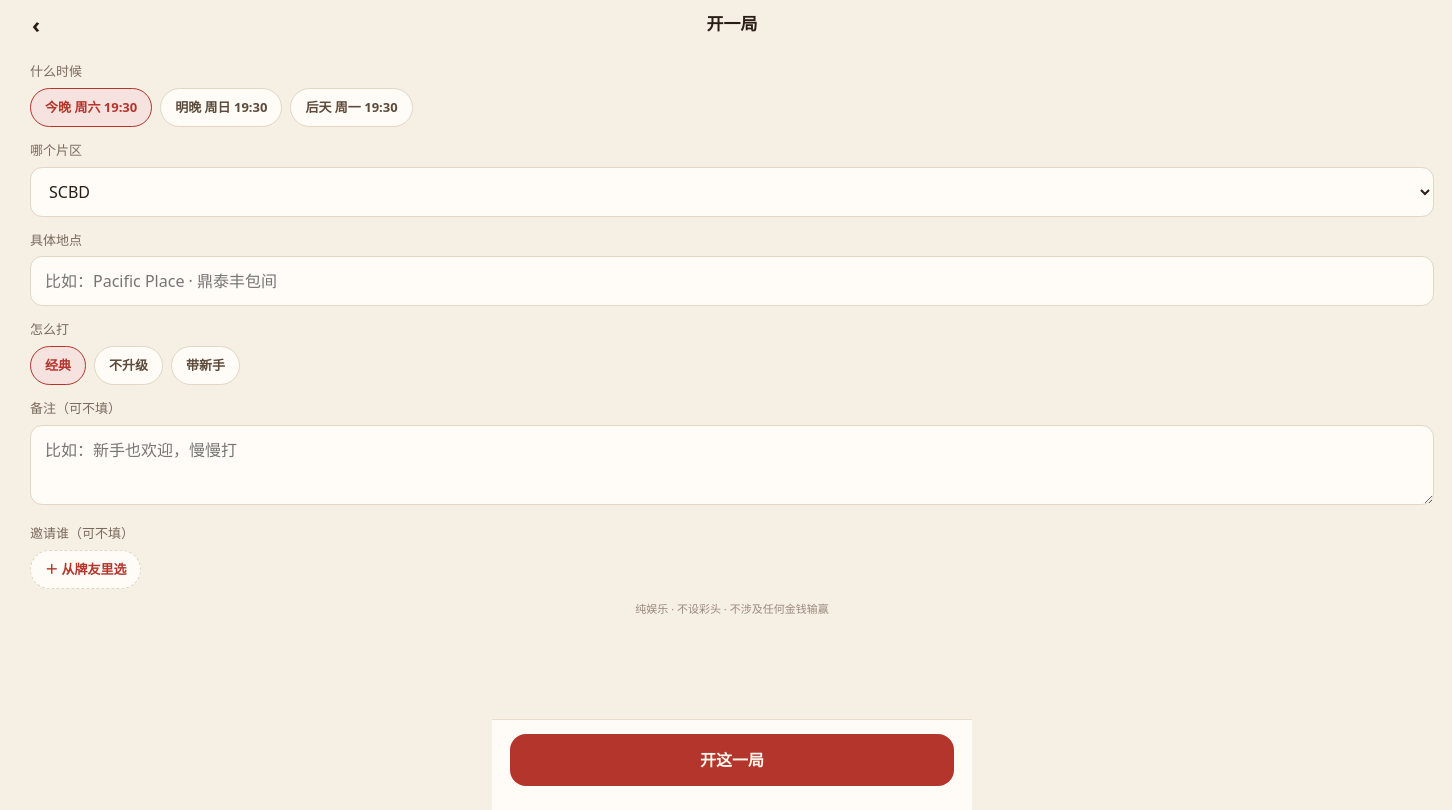
Test: 敏感词（§14、原型 X1） › 备注命中时，提示在备注下面，而且不清空已经写好的内容
This screenshot has width=1452, height=810.
In the field labelled "具体地点": (732, 281) [30,256,1434,306], type "Pacific Place"
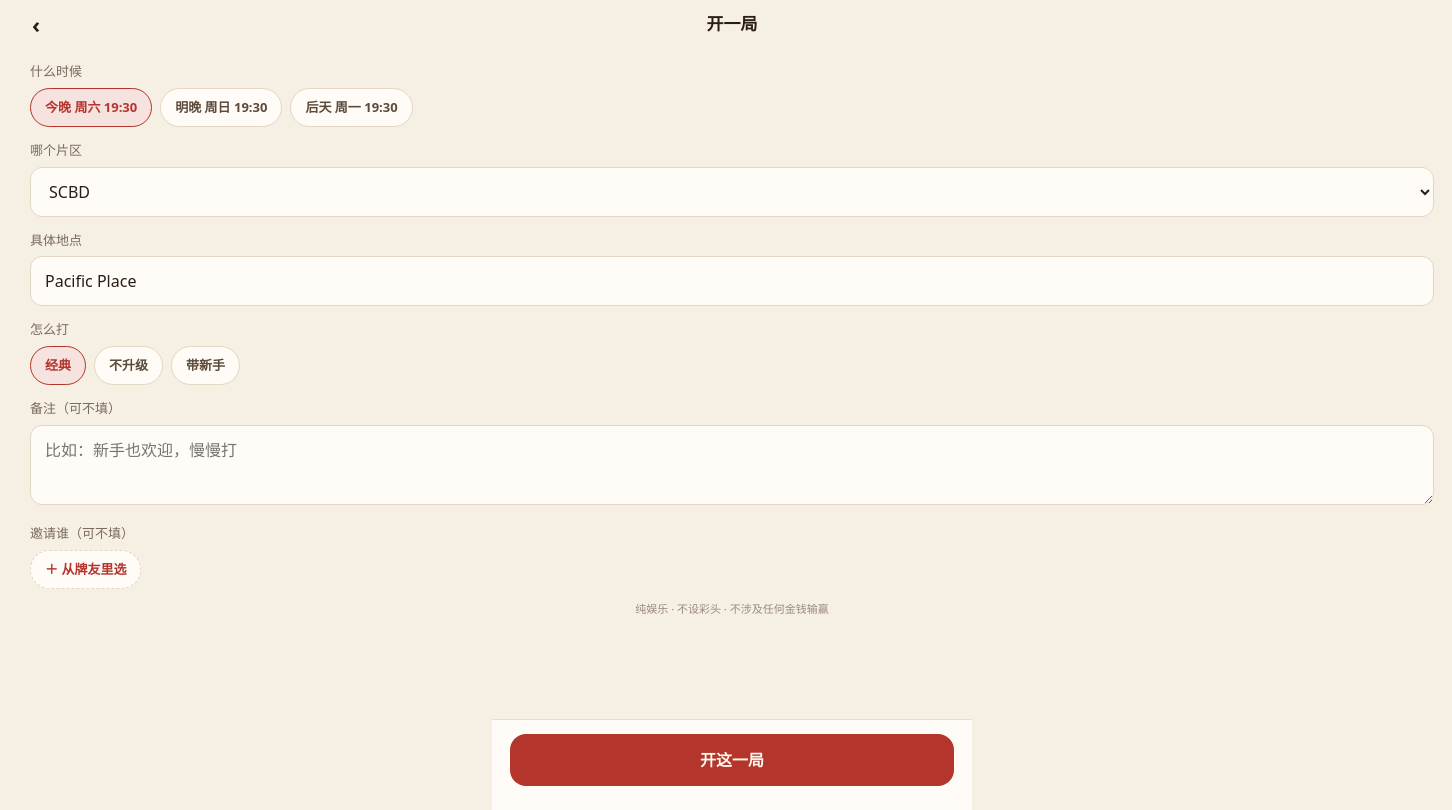
In the text box with id "note": (732, 464) [30,424,1434,504], type "一把 50 块钱，输了请宵夜"
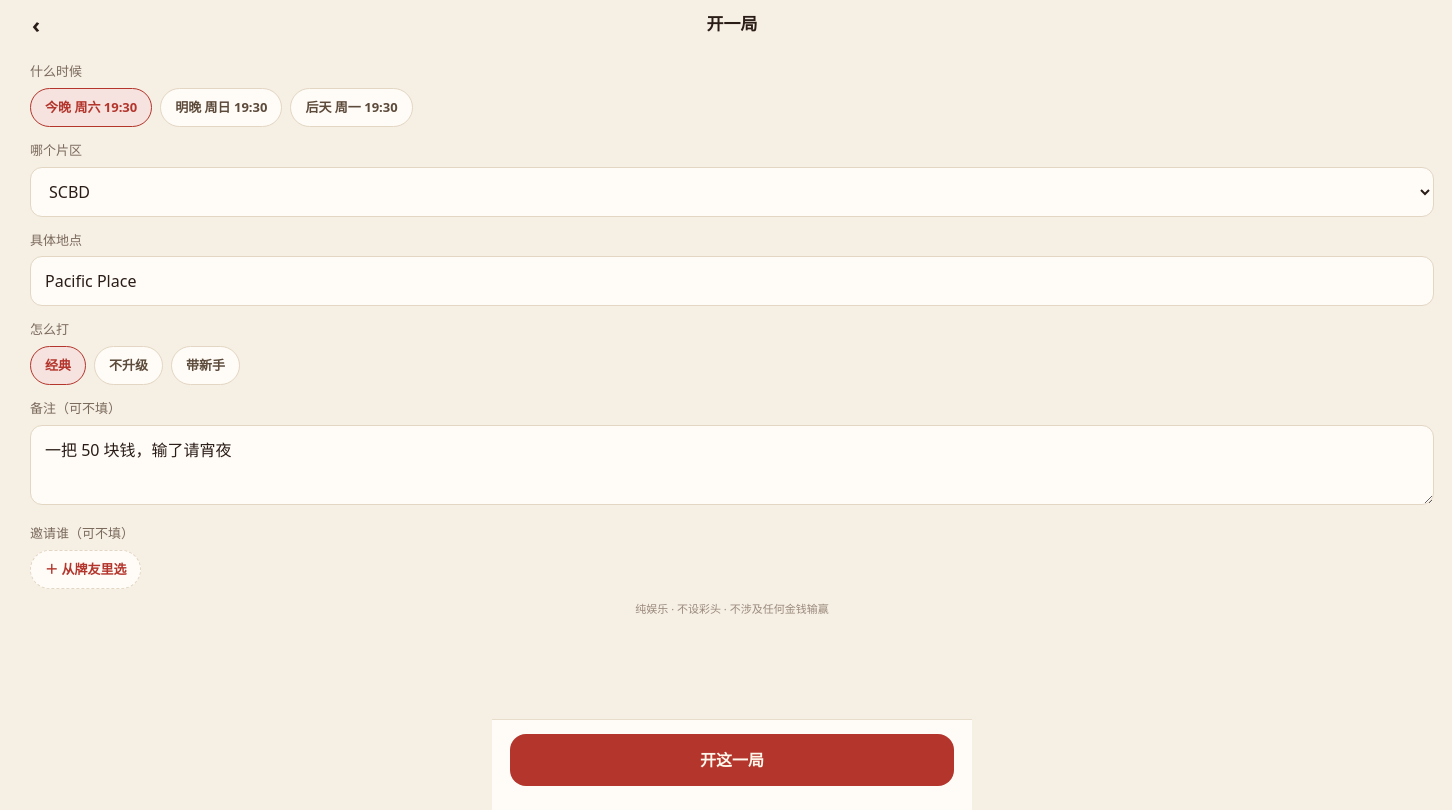
Click the button "开这一局": (732, 760) [510,734,954,786]
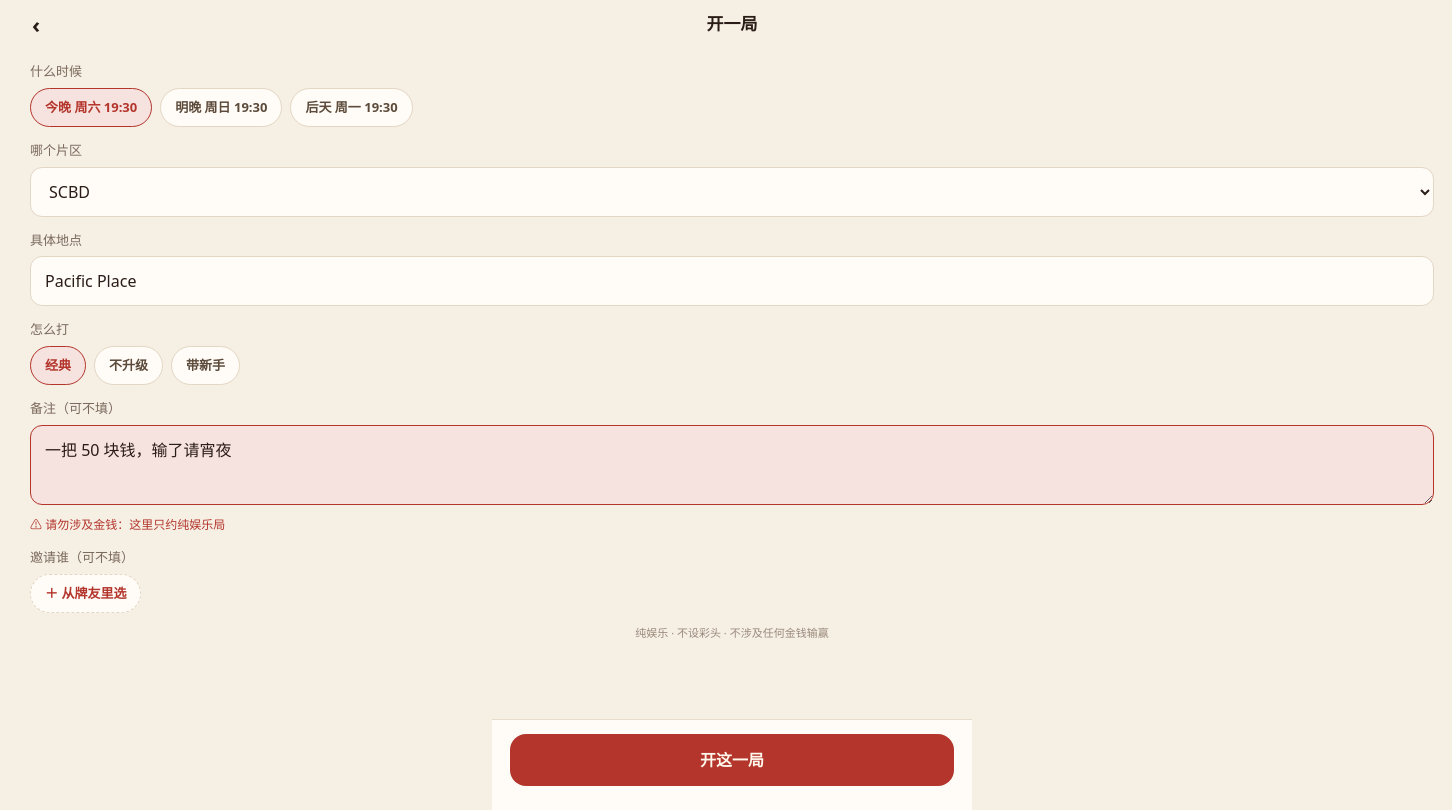
expect the text "⚠ 请勿涉及金钱：这里只约纯娱乐局" is shown: met, box [30,516,225,533]
expect the text with class "errmsg" shows "请勿涉及金钱": met, box [45,516,225,533]
